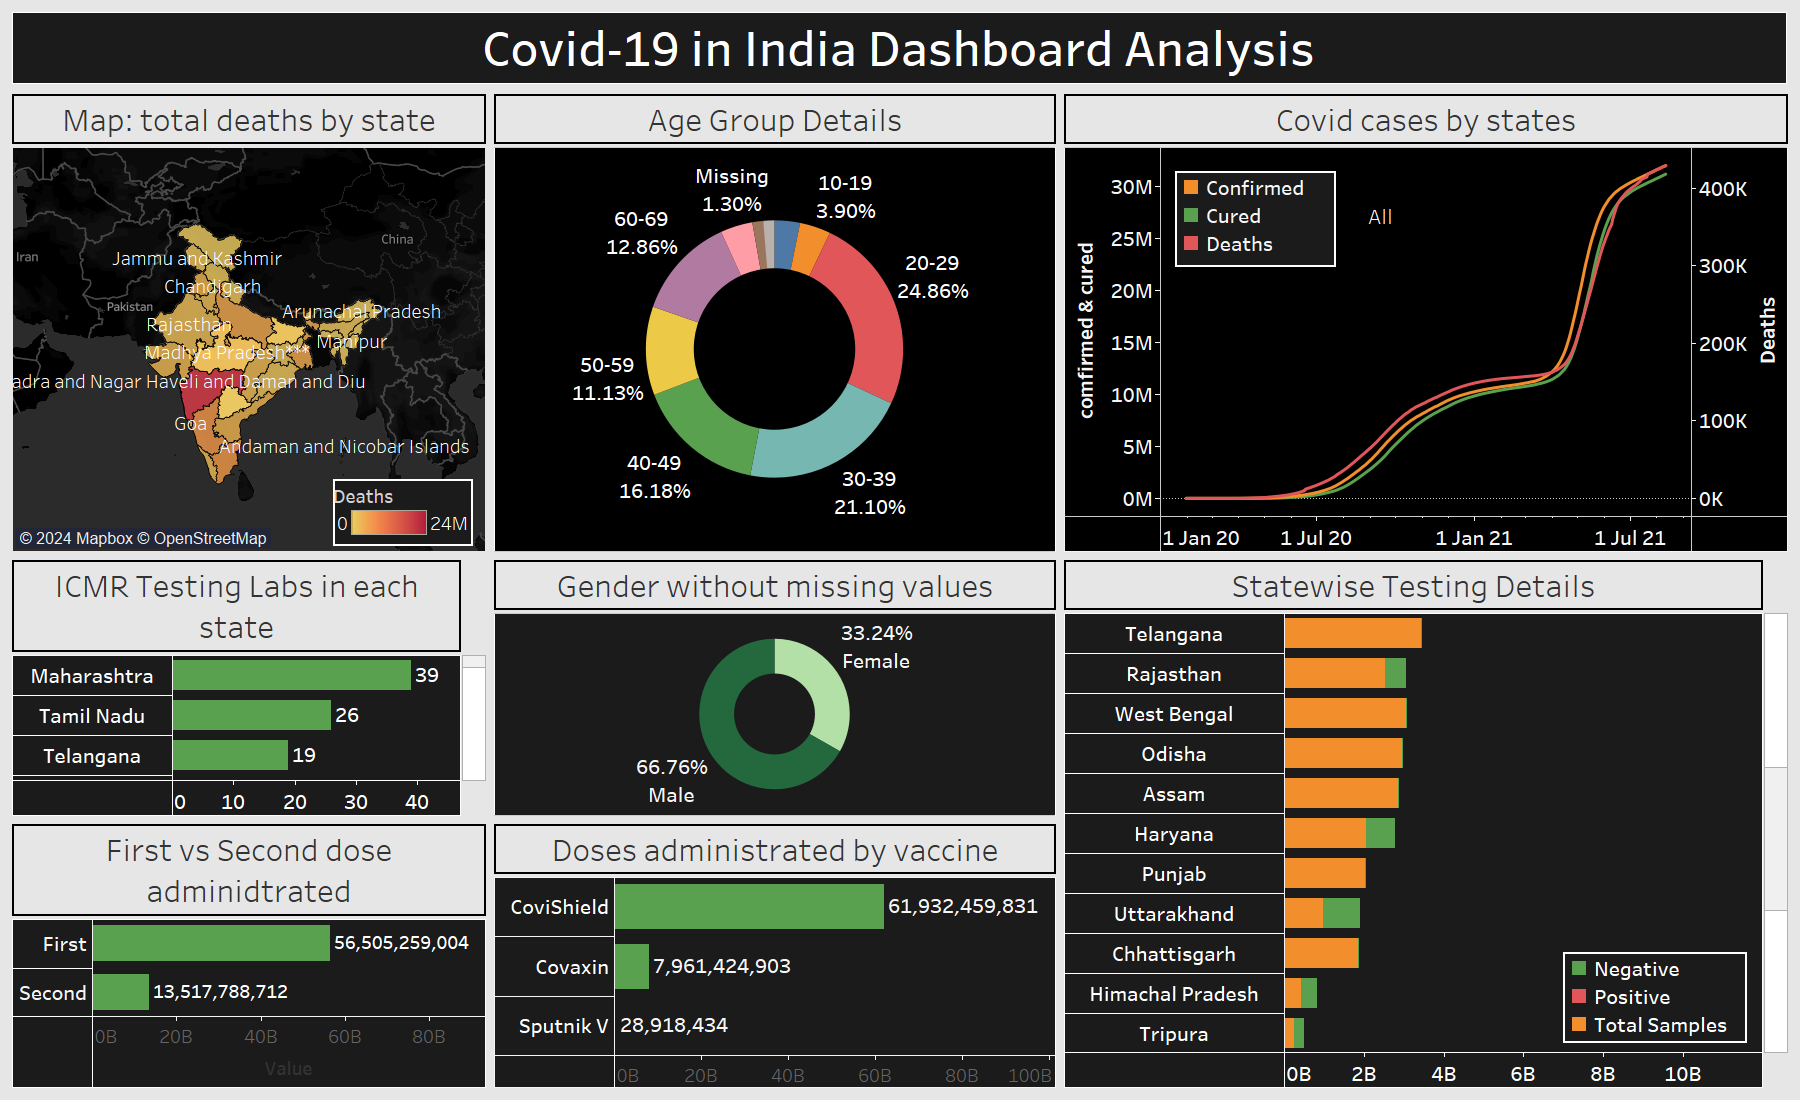

The page's visual inventory and layout, read from the dashboard file:
{"tool":"tableau","page":{"name":"Dashboard 1","canvas":[1800,1100],"ordinal":0},"visuals":[{"type":"worksheet","title":"Title","mark":"Automatic","box":[8,8,1784,82]},{"type":"worksheet","title":"Map: total deaths by state","mark":"Automatic","box":[8,90,482,466]},{"type":"worksheet","title":"Age Group Details","mark":"Pie","rows":["Calculation_1342917131288494083","Calculation_1342917131288653829"],"box":[490,90,570,466]},{"type":"worksheet","title":"Covid cases by states","mark":"Automatic","rows":["Deaths"],"cols":["Date"],"box":[1060,90,732,466]},{"type":"legend","title":"Covid cases by states","param":"[federated.1vo1ymz1q1ntdx15xc4aw1kwk5do].[:Measure Names]","box":[1175,171,161,96]},{"type":"filter","title":"Covid cases by states","param":"[federated.1vo1ymz1q1ntdx15xc4aw1kwk5do].[none:State/UnionTerritory:nk]","box":[1366,174,168,72]},{"type":"legend","title":"Map: total deaths by state","param":"[federated.1vo1ymz1q1ntdx15xc4aw1kwk5do].[sum:Deaths:qk]","box":[333,479,140,67]},{"type":"worksheet","title":"ICMR Testing Labs in each state","mark":"Automatic","rows":["state"],"cols":["lab"],"box":[8,556,482,264]},{"type":"worksheet","title":"Gender without missing values","mark":"Pie","rows":["Calculation_1342917131296448521","Calculation_1342917131296448521"],"box":[490,556,570,264]},{"type":"worksheet","title":"Statewise Testing Details","mark":"Automatic","rows":["State"],"box":[1060,556,732,536]},{"type":"worksheet","title":"First vs Second dose adminidtrated","mark":"Automatic","box":[8,820,482,272]},{"type":"worksheet","title":"Doses administrated by vaccine","mark":"Automatic","box":[490,820,570,272]},{"type":"legend","title":"Statewise Testing Details","param":"[federated.1u9akmb1it4tit1gcybud0w13osh].[:Measure Names]","box":[1563,952,184,91]}]}

Visuals, with their boxes in screenshot pixels (x1, y1, x2, y2), scaled from the page's 1800x1100 canvas onto the 1800x1100 screenshot:
"Title" worksheet: 8/8/1792/90
"Map: total deaths by state" worksheet: 8/90/490/556
"Age Group Details" worksheet (Pie marks): 490/90/1060/556
"Covid cases by states" worksheet: 1060/90/1792/556
"Covid cases by states" legend: 1175/171/1336/267
"Covid cases by states" filter: 1366/174/1534/246
"Map: total deaths by state" legend: 333/479/473/546
"ICMR Testing Labs in each state" worksheet: 8/556/490/820
"Gender without missing values" worksheet (Pie marks): 490/556/1060/820
"Statewise Testing Details" worksheet: 1060/556/1792/1092
"First vs Second dose adminidtrated" worksheet: 8/820/490/1092
"Doses administrated by vaccine" worksheet: 490/820/1060/1092
"Statewise Testing Details" legend: 1563/952/1747/1043
